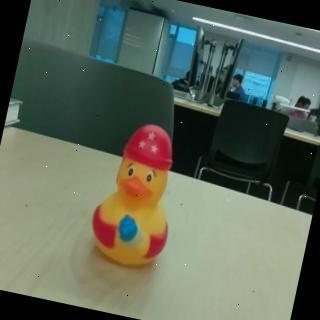duck_specialty: (83, 114, 193, 275)
